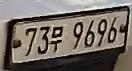3: (37, 24, 50, 56)
6: (85, 18, 95, 48), (108, 15, 118, 44)
7: (24, 26, 37, 56)
9: (70, 21, 84, 50), (96, 17, 108, 48)
무: (50, 24, 64, 52)
